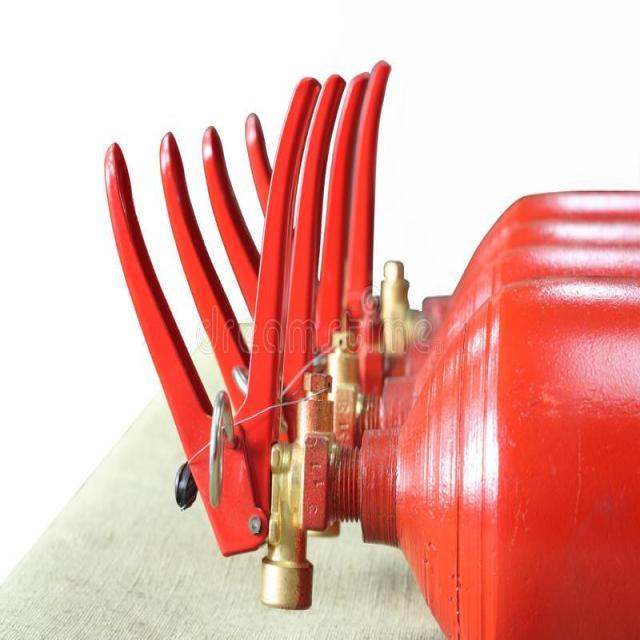fire_extinguisher: (99, 68, 639, 639)
